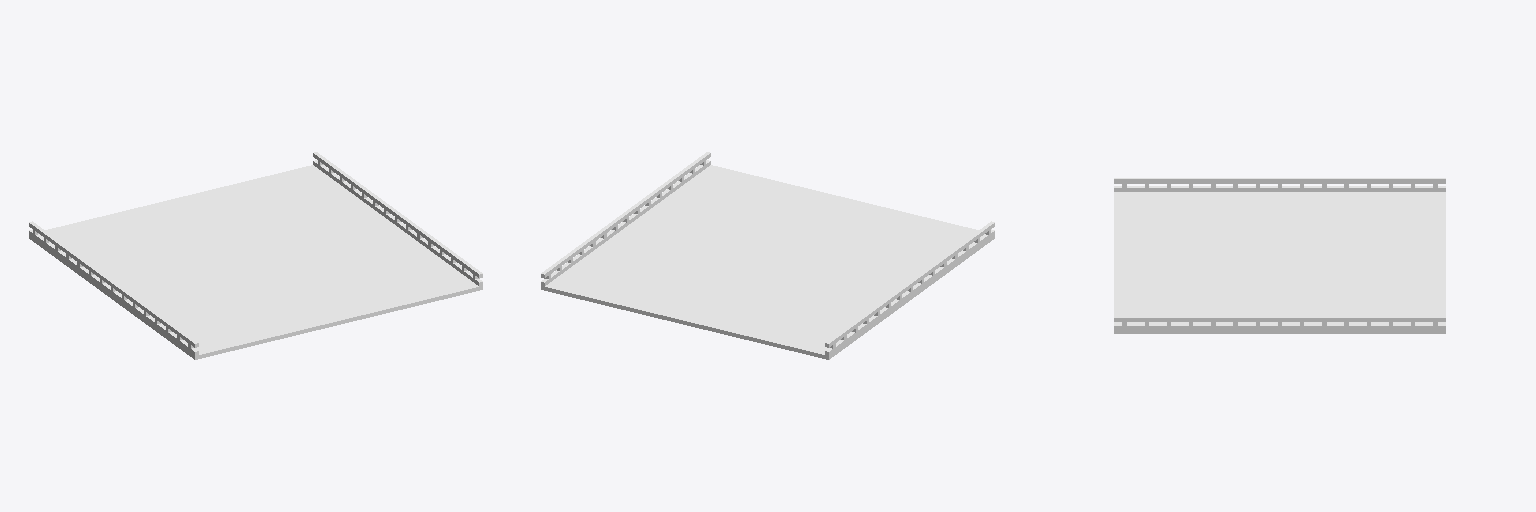
The model's file is straight_0.obj.
3 renders of one model, left to right at view 1: azimuth 30°, elevation 25°; view 2: azimuth 150°, elevation 25°; view 3: azimuth 270°, elevation 25°, orthographic.
Parts seen in each view (by area): view 1: straight_0; view 2: straight_0; view 3: straight_0.
Part boxes in pixels (bbox=[...]): straight_0: bbox=[29, 152, 482, 359]; straight_0: bbox=[541, 152, 994, 359]; straight_0: bbox=[1114, 178, 1445, 333].
Bounding box in the file's own units: 75 × 4 × 75.